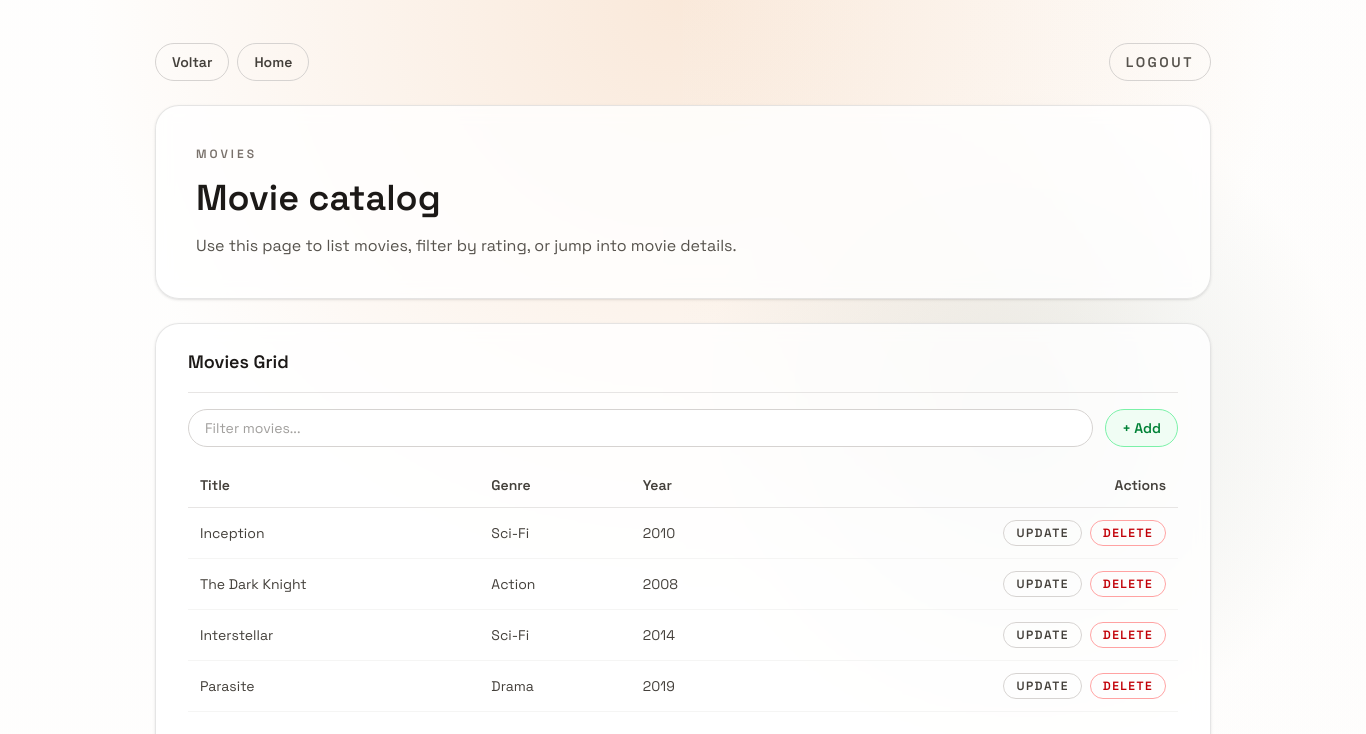
Test case: MoviesPage › clears related grids when next page is clicked
Click the text "Inception". click: click(232, 533)
box: [188,508,479,558]
(page scrolled)
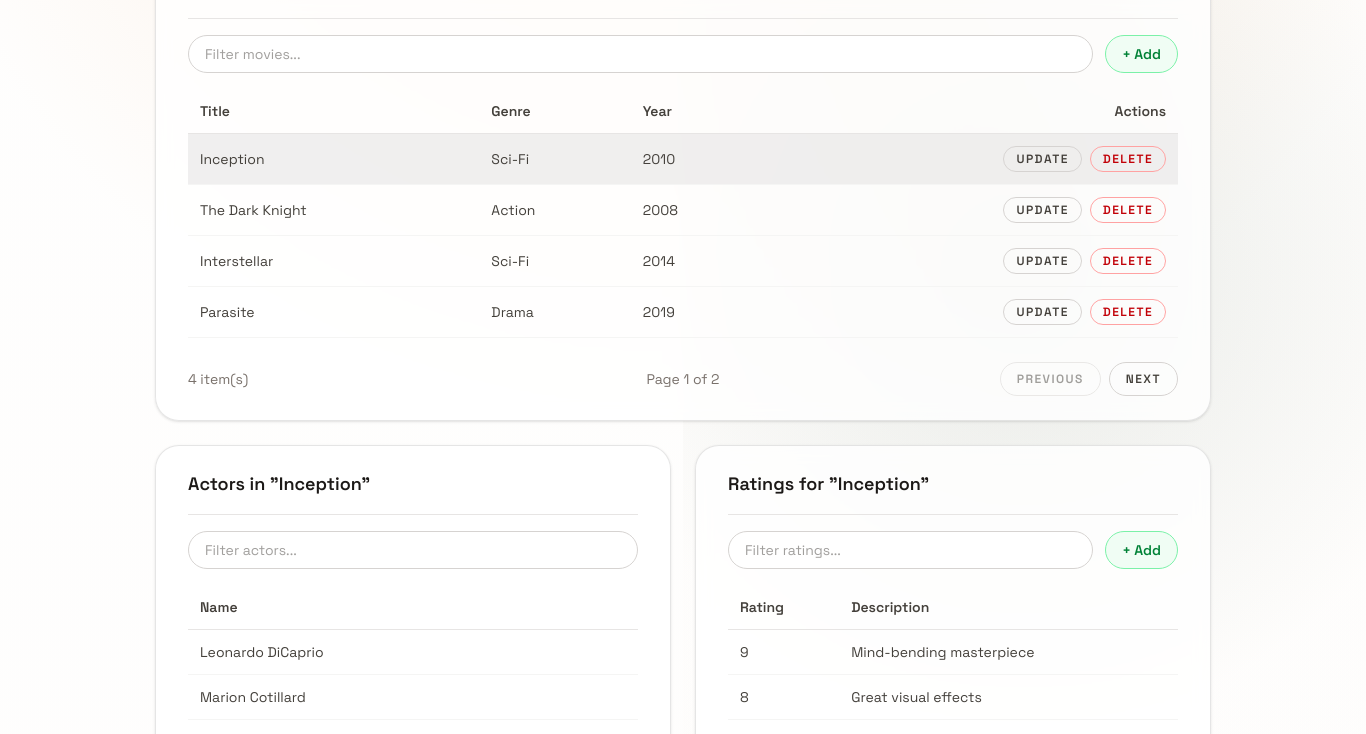
Now the text "Leonardo DiCaprio" is shown, box [188,630,638,674]
Click the button "Next" below "Actions". click: click(1143, 379)
box: [1109,362,1178,396]
(page scrolled)
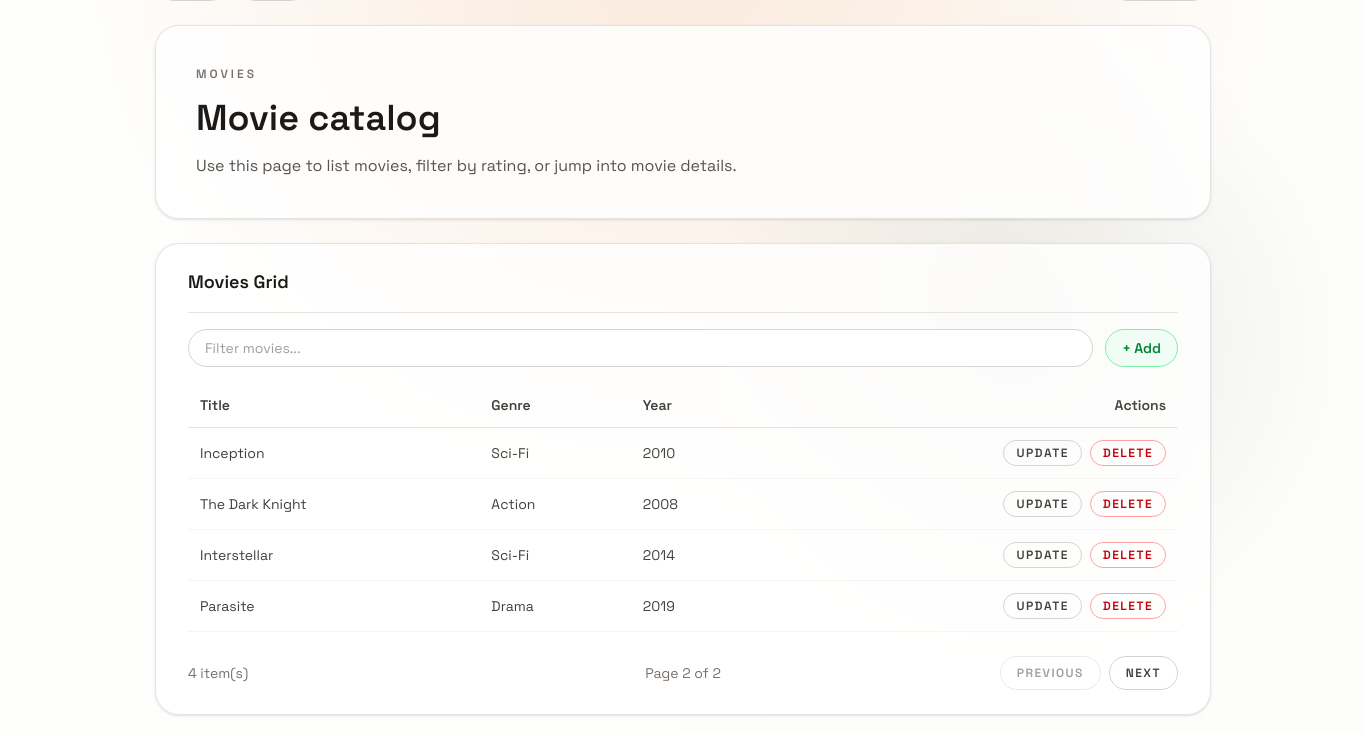
Now the heading "Actors in \"Inception\"" is gone
Now the heading "Ratings for \"Inception\"" is gone
